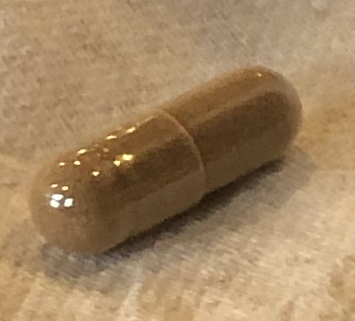capsule: (30, 66, 302, 259)
